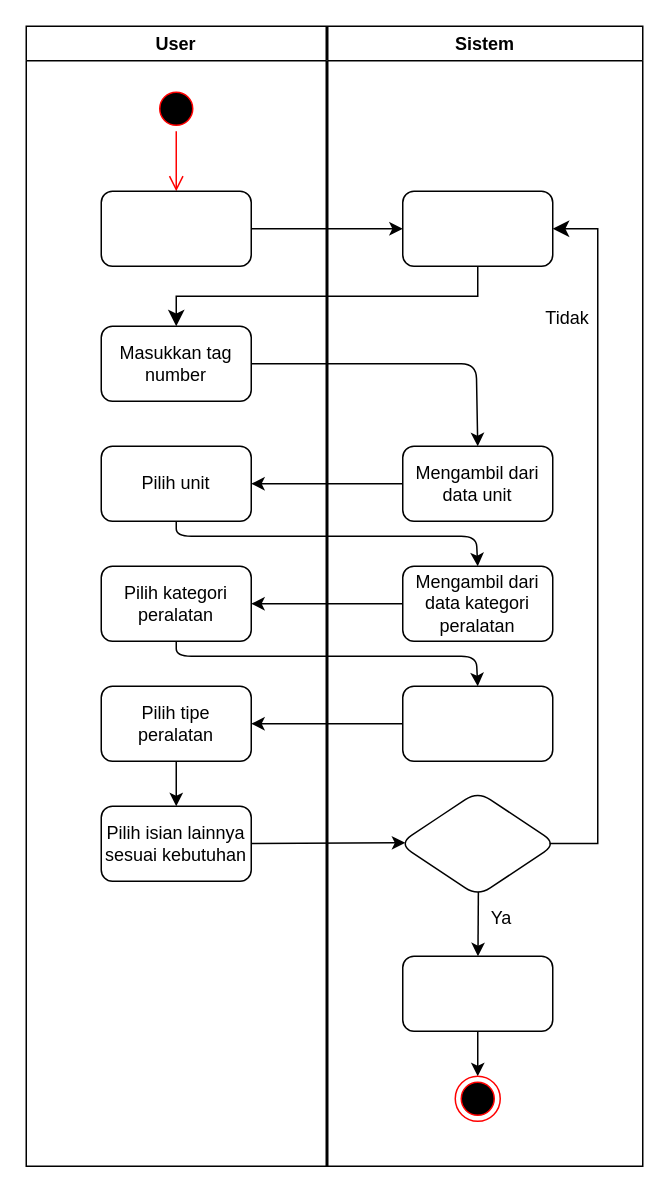
Some shapes in this 669 by 1193 pixel diagram are drawn without their labels. The shapes that lost their labels are listed below. From the top down, each one's centre as x and y in pixels, then its label:
point 175,228: Membuka halaman tag number
point 477,228: Menampilkan halaman tag number
point 477,723: Mengambil dari data tipe peralatan
point 477,843: Validasi data
point 477,993: Menyimpan data
